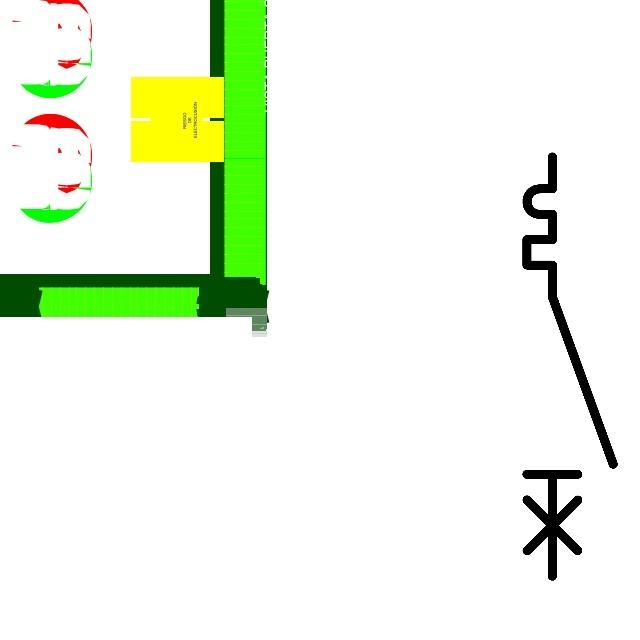interruptor_termomagnetico: (516, 146, 624, 587)
